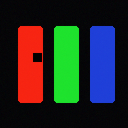1 square: (33, 53, 41, 61)
